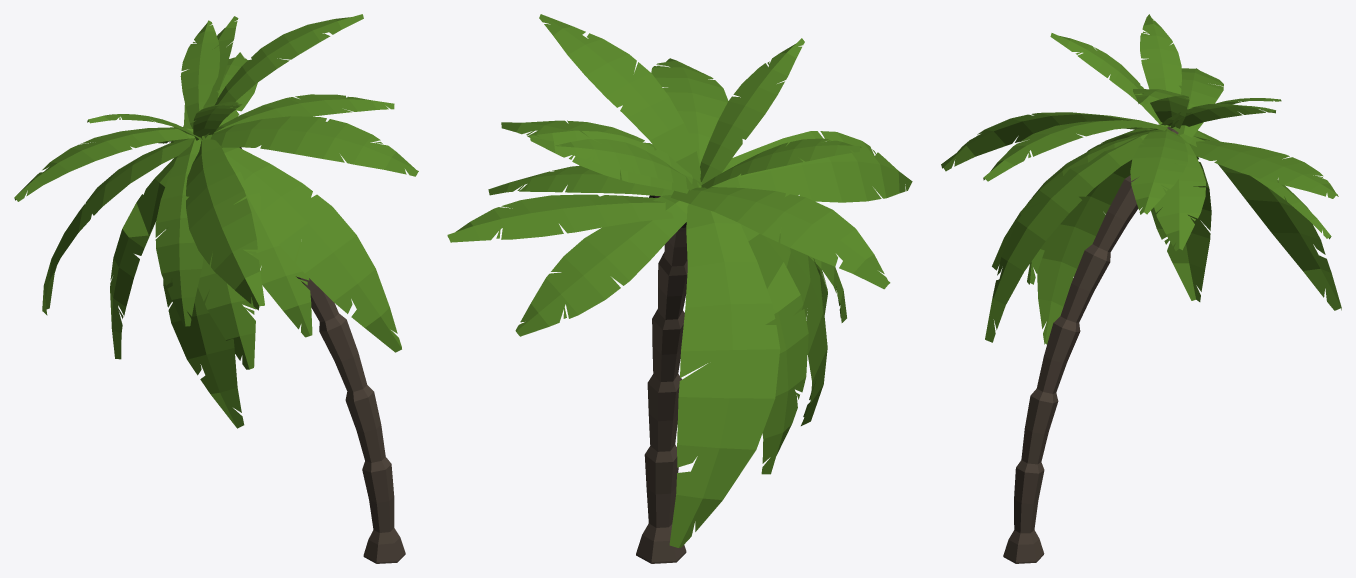
Rendered from Palmera3.fbx.
3 renders of one model, left to right at view 1: azimuth 30°, elevation 25°; view 2: azimuth 150°, elevation 25°; view 3: azimuth 270°, elevation 25°, orthographic. The views are drawn at different scales.
Visible parts, largest first — view 1: Palmera3; view 2: Palmera3; view 3: Palmera3.
Boxes of the visible parts, x1=… form: Palmera3: x1=14, y1=14, x2=418, y2=563; Palmera3: x1=447, y1=14, x2=912, y2=563; Palmera3: x1=941, y1=14, x2=1341, y2=563.
Size of the model in its own units: 1727 by 2278 by 1750.
